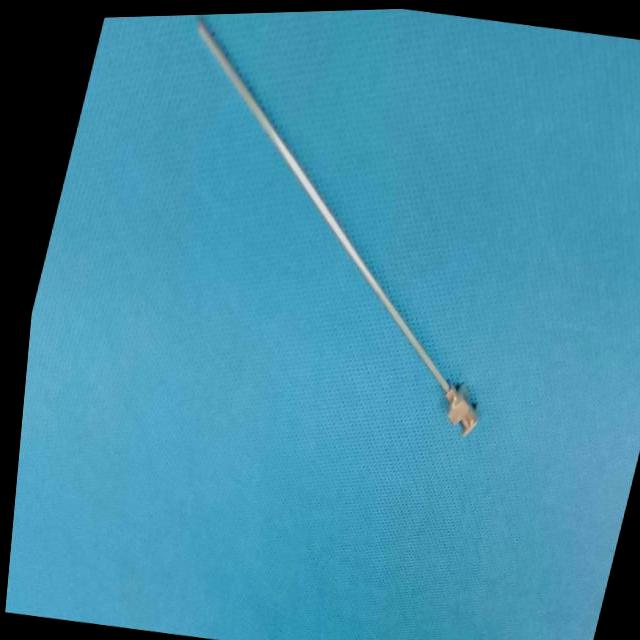Infectious: (443, 384, 479, 437)
Pathological: (4, 8, 640, 640)
Sharps: (194, 19, 480, 437)
